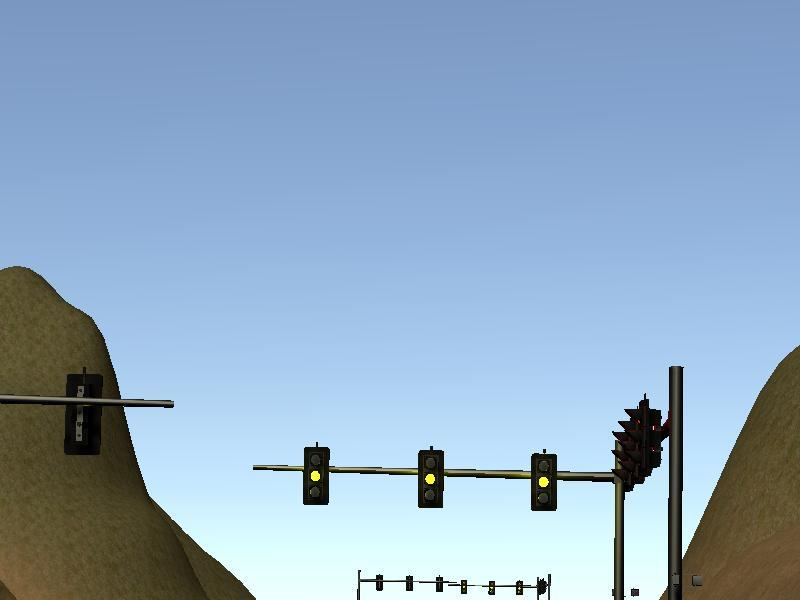Yellow: (529, 454, 558, 511), (304, 444, 330, 506), (418, 449, 443, 508)
